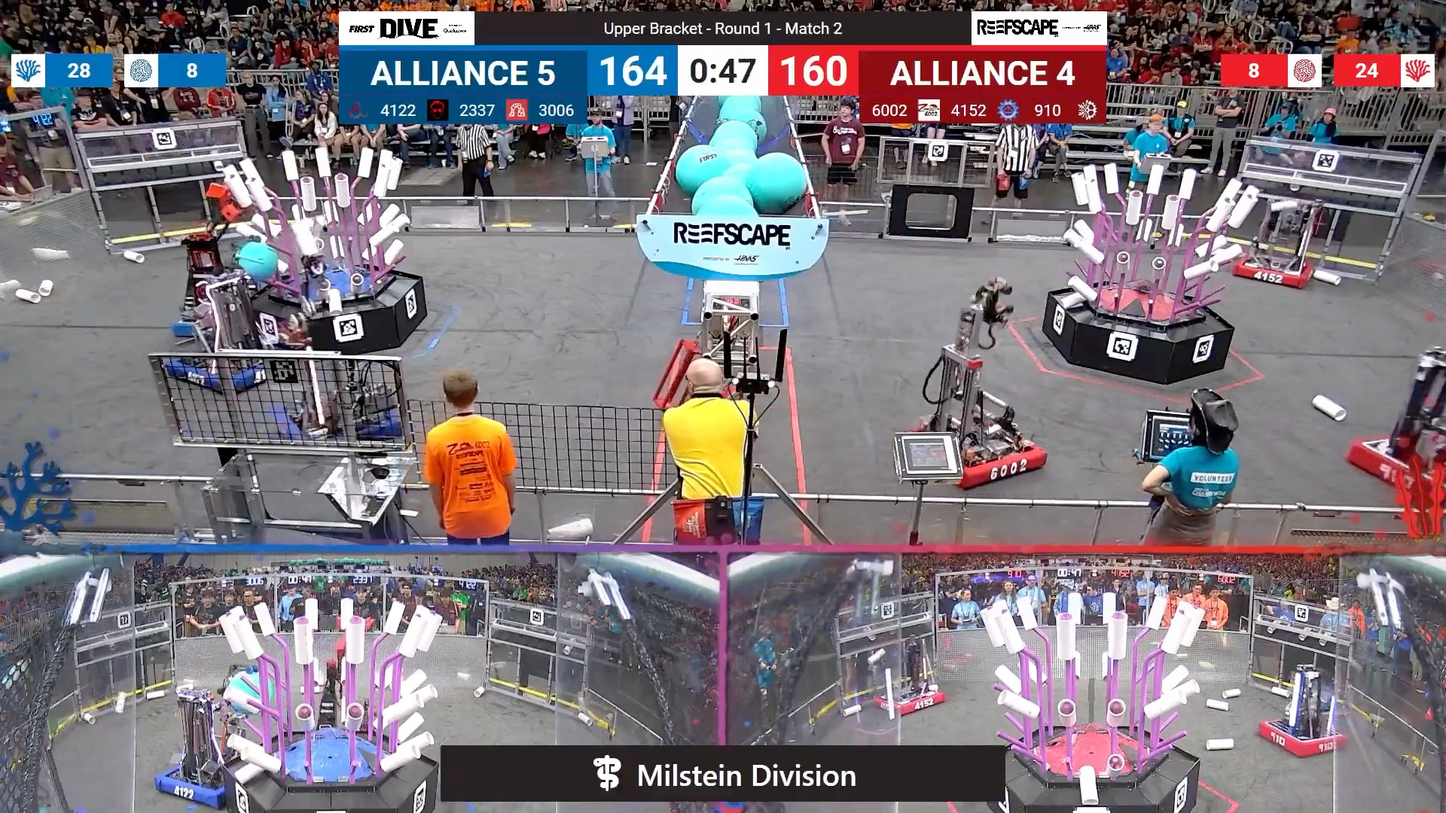bumpers: (893, 419, 1054, 493), (266, 396, 408, 454), (159, 346, 305, 395), (1342, 425, 1444, 494), (150, 755, 255, 807), (1248, 715, 1353, 760), (1223, 250, 1323, 291), (869, 683, 952, 717)
